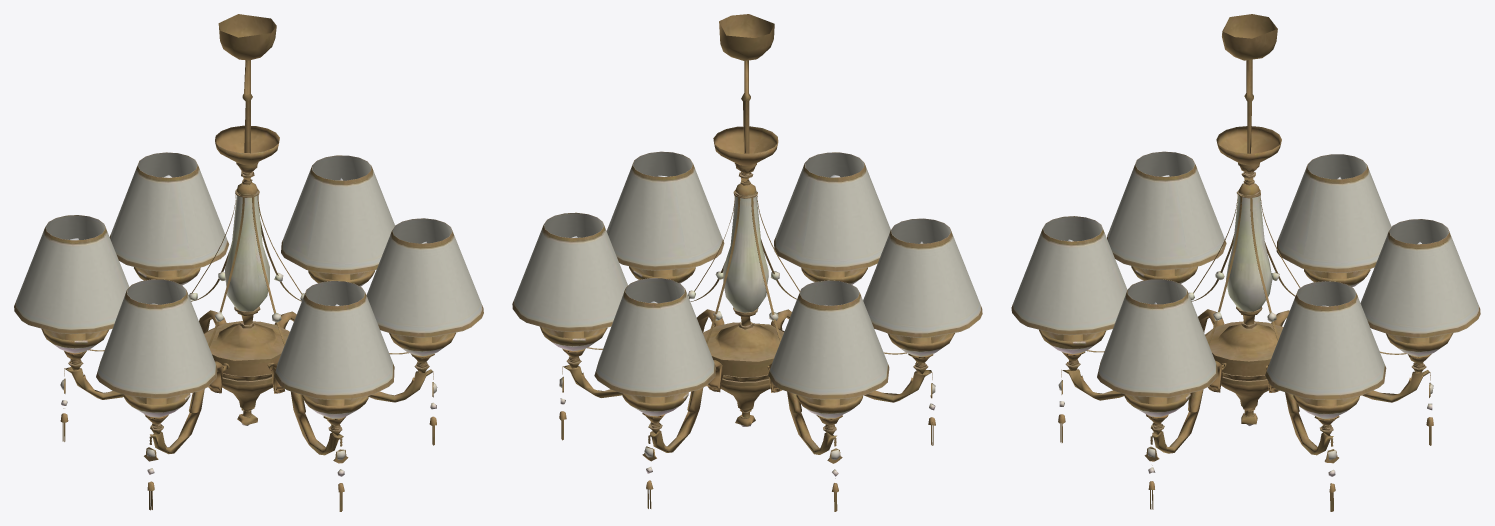
The model's file is Chandelier_01.glb.
The picture shows the model from 3 angles, left to right: view 1: azimuth 30°, elevation 25°; view 2: azimuth 150°, elevation 25°; view 3: azimuth 270°, elevation 25°; orthographic projection.
Size of the model in its own units: 0.7442 by 0.7983 by 0.8155.
Materials: 2 (1 with a texture image).
